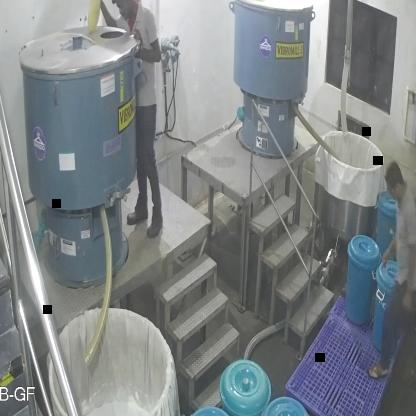no_shoes: (368, 363, 388, 382)
